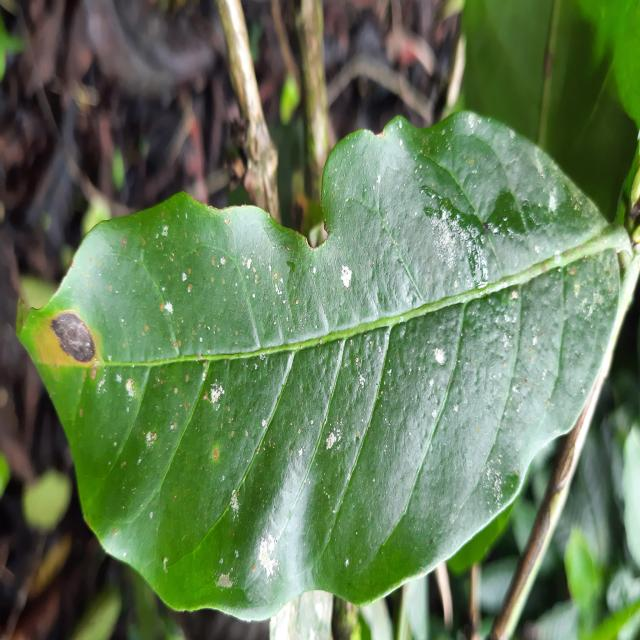Enfermedad-Mancha-de-hierro: (15, 111, 640, 624)
